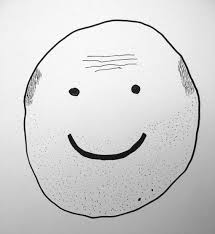feliz: (22, 13, 203, 211), (56, 73, 158, 165)
